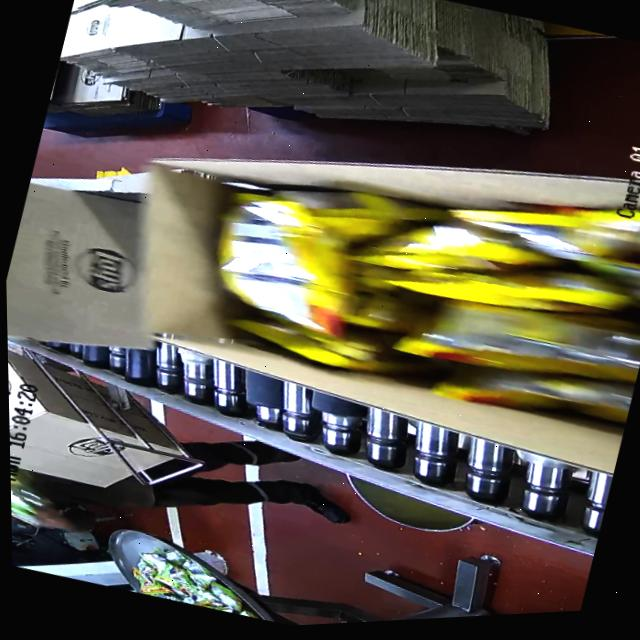SALTED: (212, 114, 640, 451)
